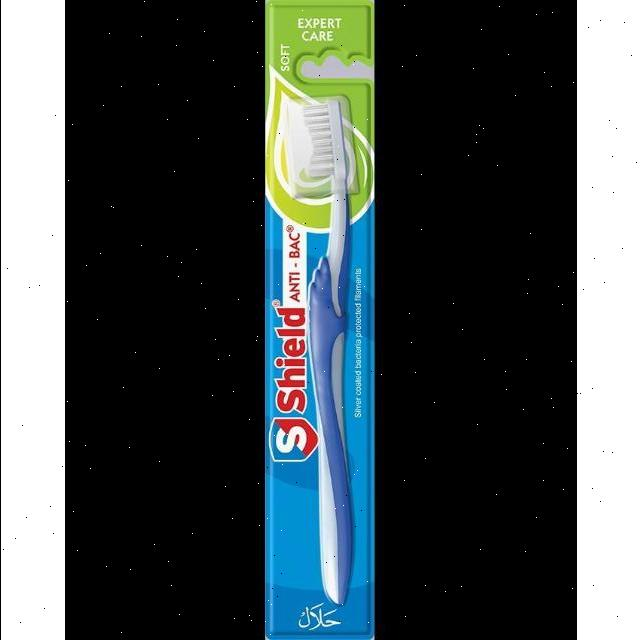toothbrush: (244, 0, 384, 640)
